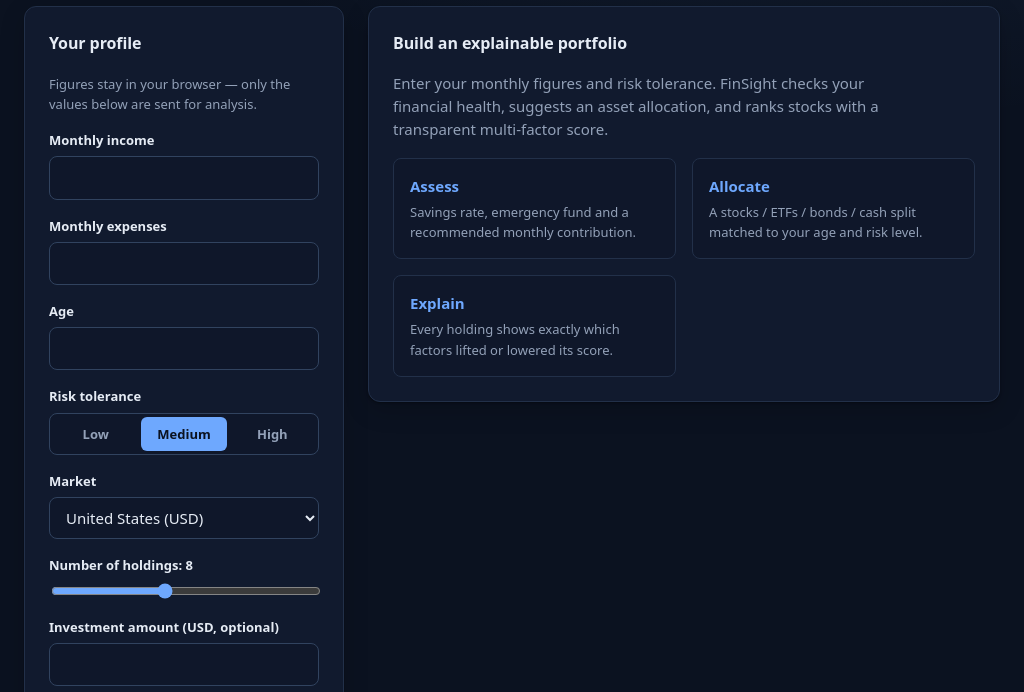
Test: App › shows an error panel with a working retry for upstream failures
Type "5000" into the number field labelled "Monthly income" at (184, 178), box [49,156,319,200]
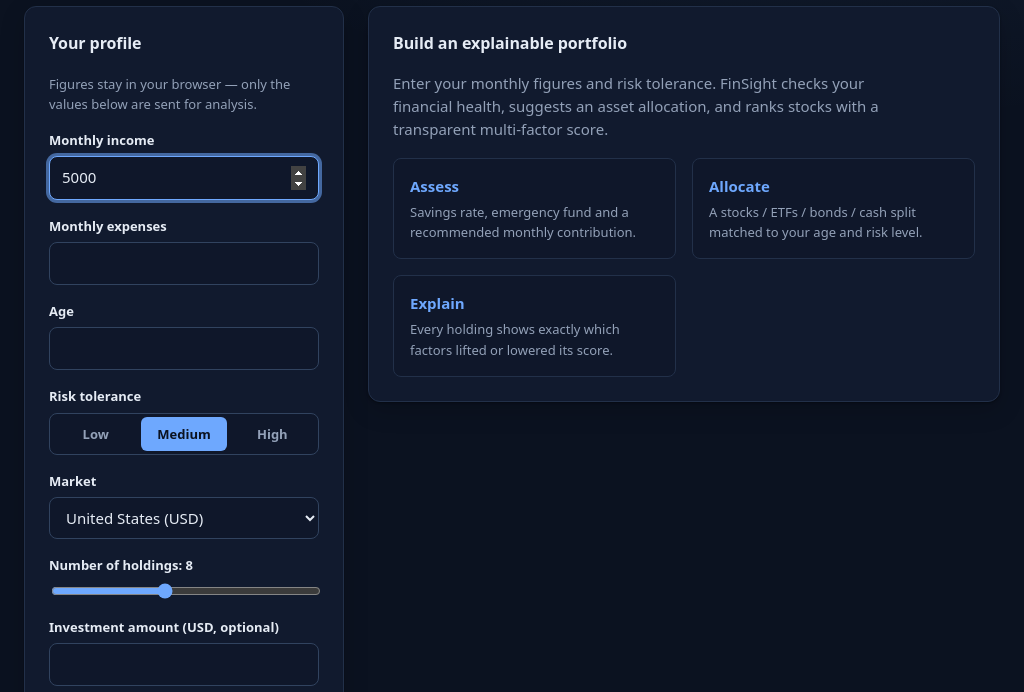
Type "3000" into the number field labelled "Monthly expenses" at (184, 263), box [49,242,319,285]
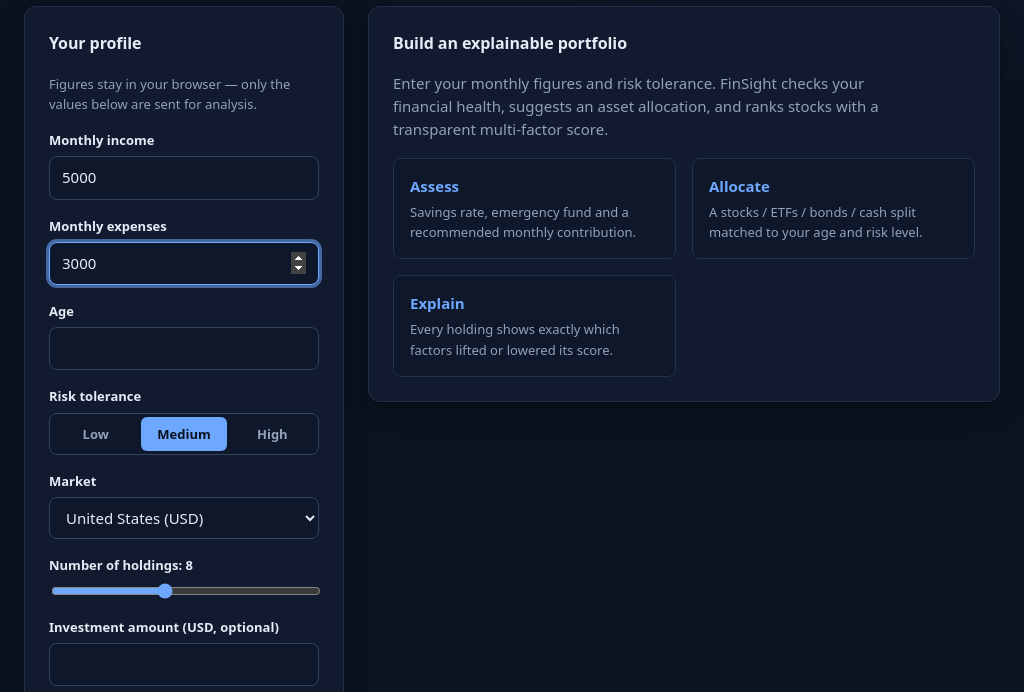
Type "30" into the number field labelled "Age" at (184, 349), box [49,327,319,370]
(page scrolled)
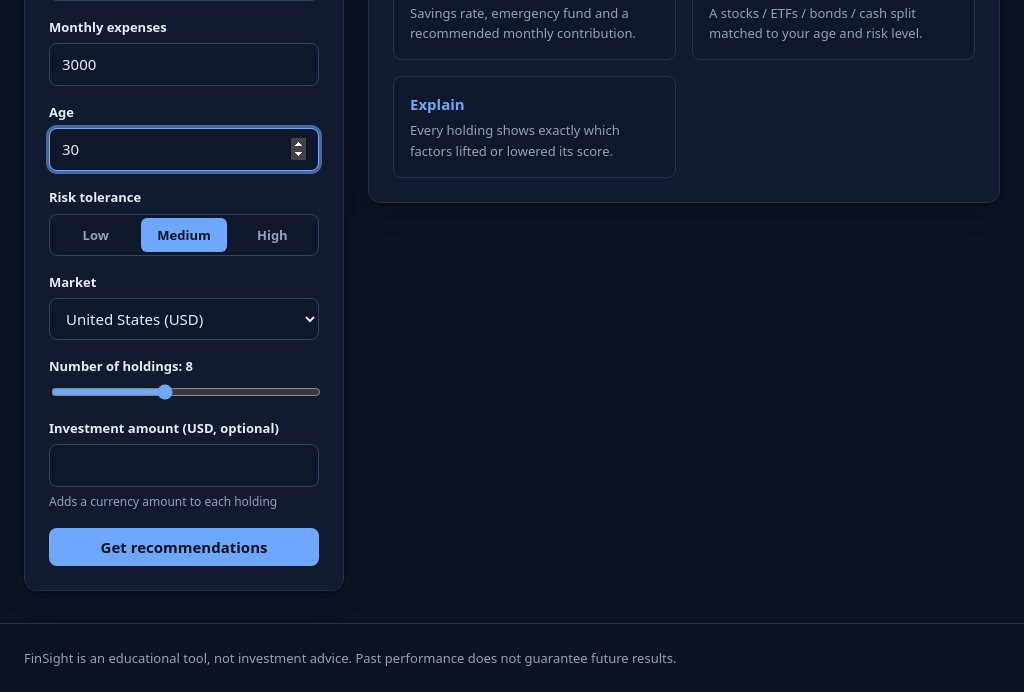
Click the button "Get recommendations" at (184, 547), box [49,528,319,566]
(page scrolled)
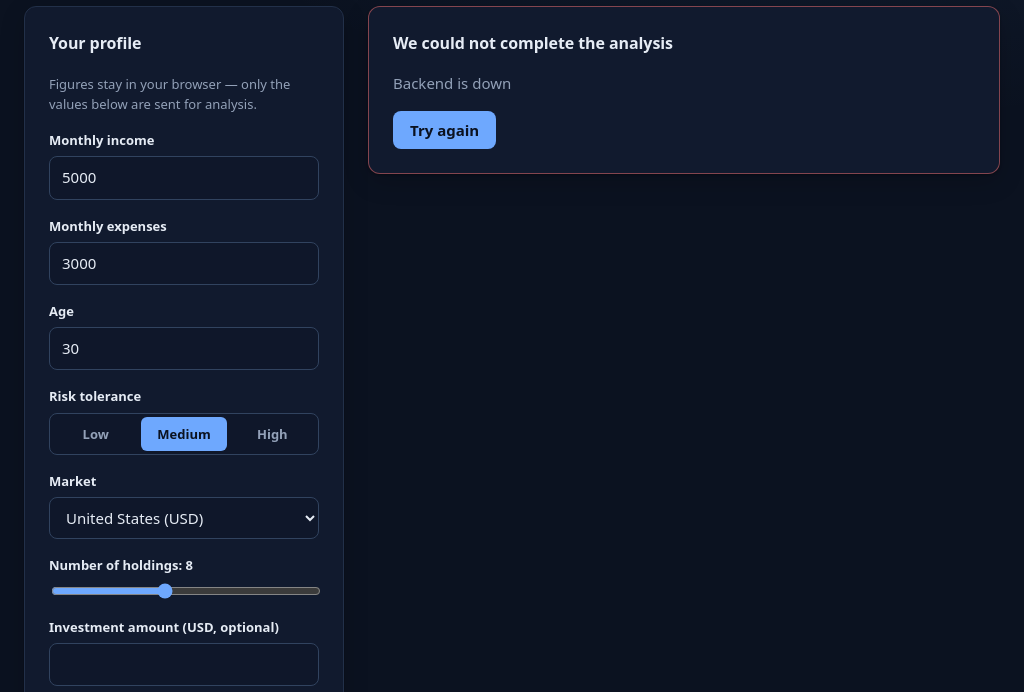
Now the text "Backend is down" is shown, box [393,72,511,95]
Click the button "Try again" at (445, 130), box [393,111,496,149]
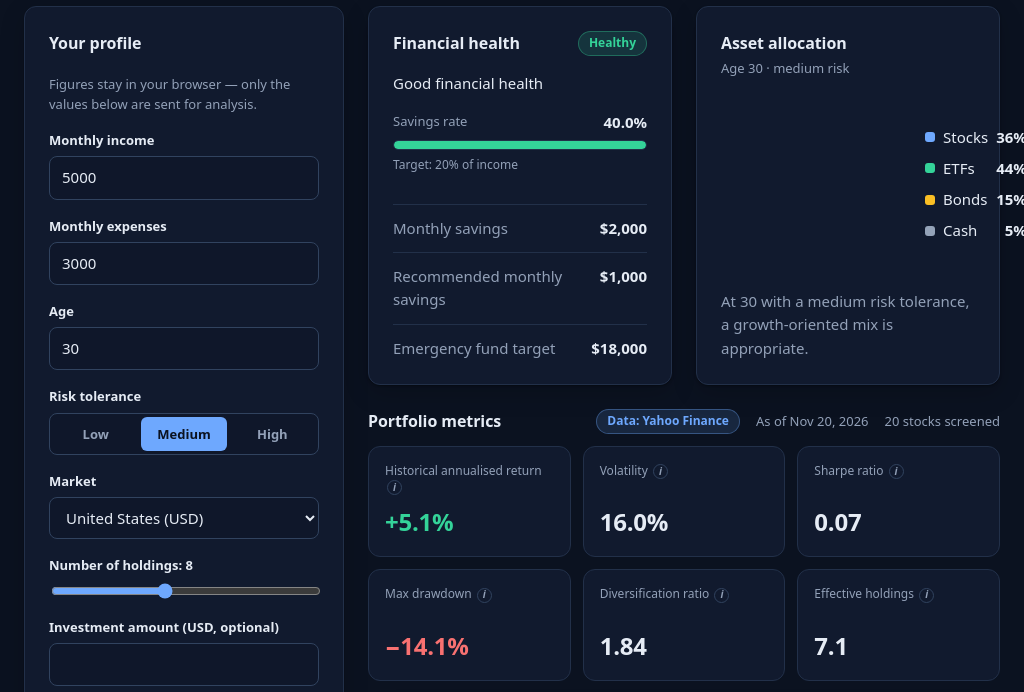
Now the element "Financial health" is shown, box [368,6,672,385]
Now the text "Backend is down" is gone
